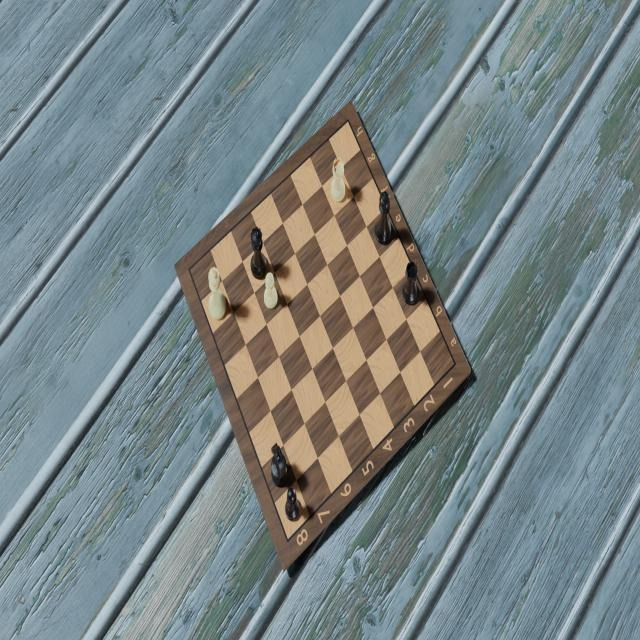black-king: (375, 191, 393, 245)
black-knight: (271, 440, 289, 487)
black-pawn: (284, 484, 300, 521)
black-queen: (249, 225, 267, 279)
black-rook: (401, 260, 418, 306)
white-king: (207, 267, 227, 320)
white-pawn: (264, 270, 278, 309)
white-rook: (330, 156, 346, 203)
